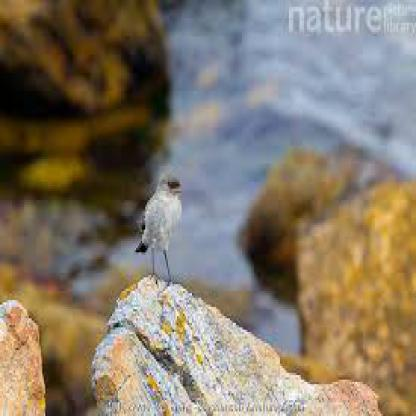Metamorphic_Quartize: (84, 282, 386, 414)
